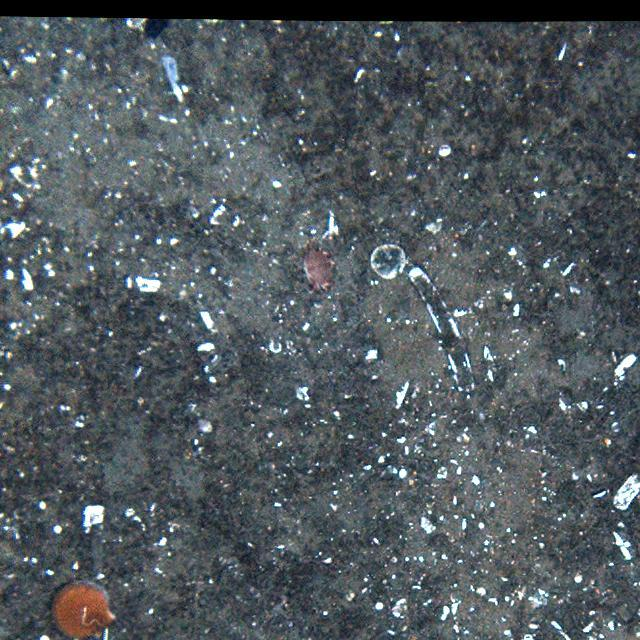crab: (300, 236, 340, 301)
